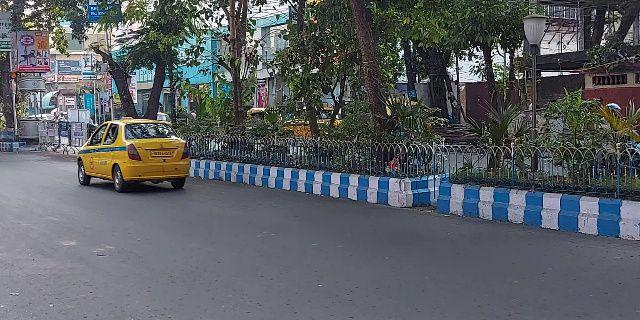Car: (72, 117, 194, 196)
